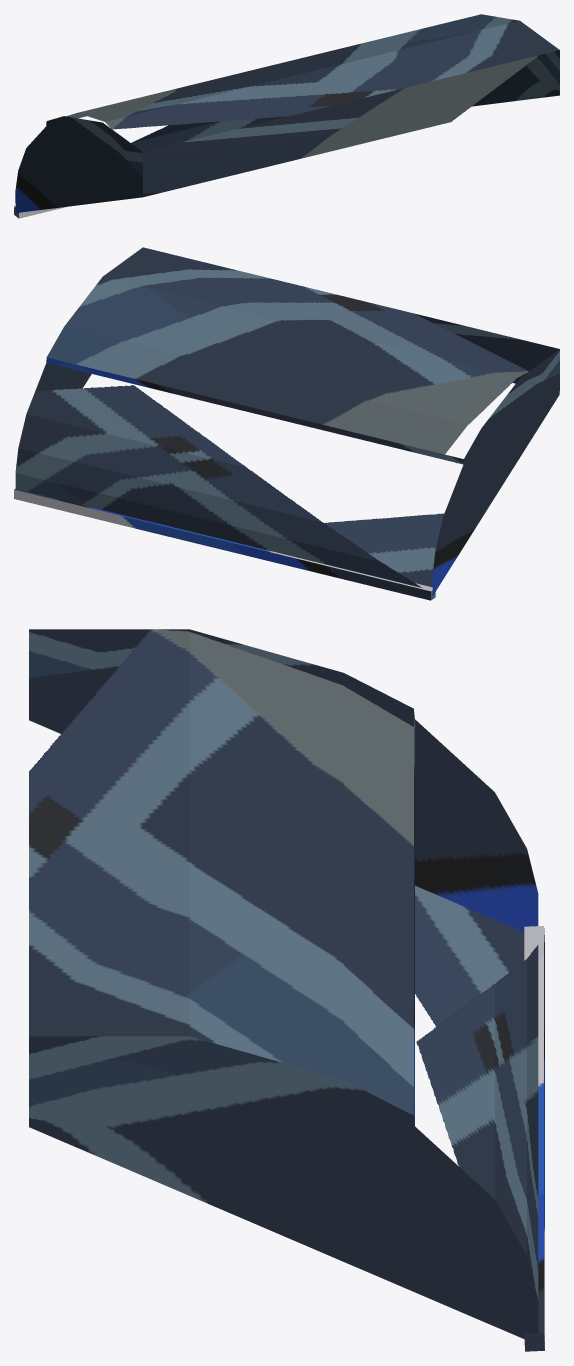
Rendered from df11g_carport_ph.obj.
The picture shows the model from 3 angles, top to bottom: view 1: azimuth 30°, elevation 25°; view 2: azimuth 150°, elevation 25°; view 3: azimuth 270°, elevation 25°; orthographic projection. The views are drawn at different scales.
Visible parts, largest first — view 1: cube; view 2: cube; view 3: cube.
Boxes of the visible parts, <box> form: cube: <box>14,14,559,218</box>; cube: <box>14,247,559,600</box>; cube: <box>29,629,544,1351</box>.
Size of the model in its own units: 3 by 1.08 by 1.61.
